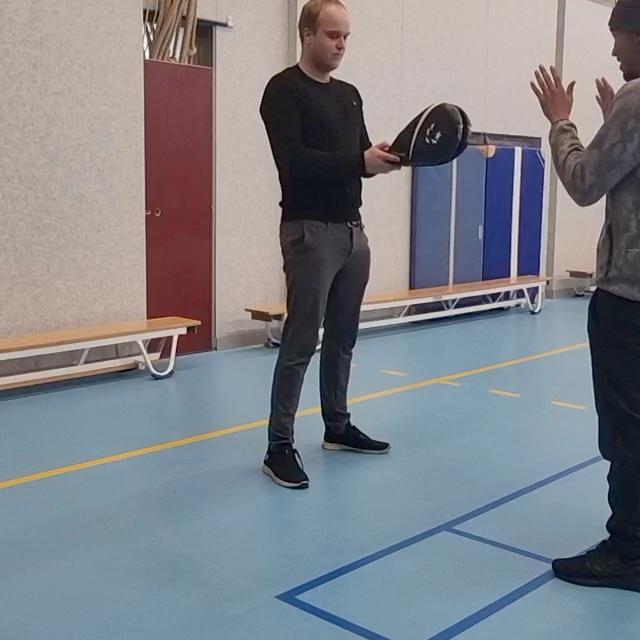paddle: (384, 100, 472, 172)
